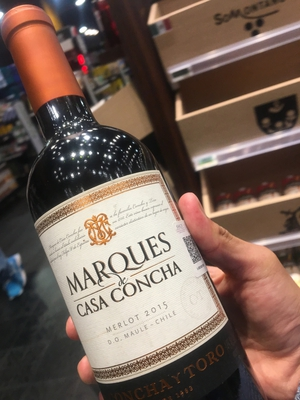marques de casa concha merlot: (12, 30, 233, 386)
